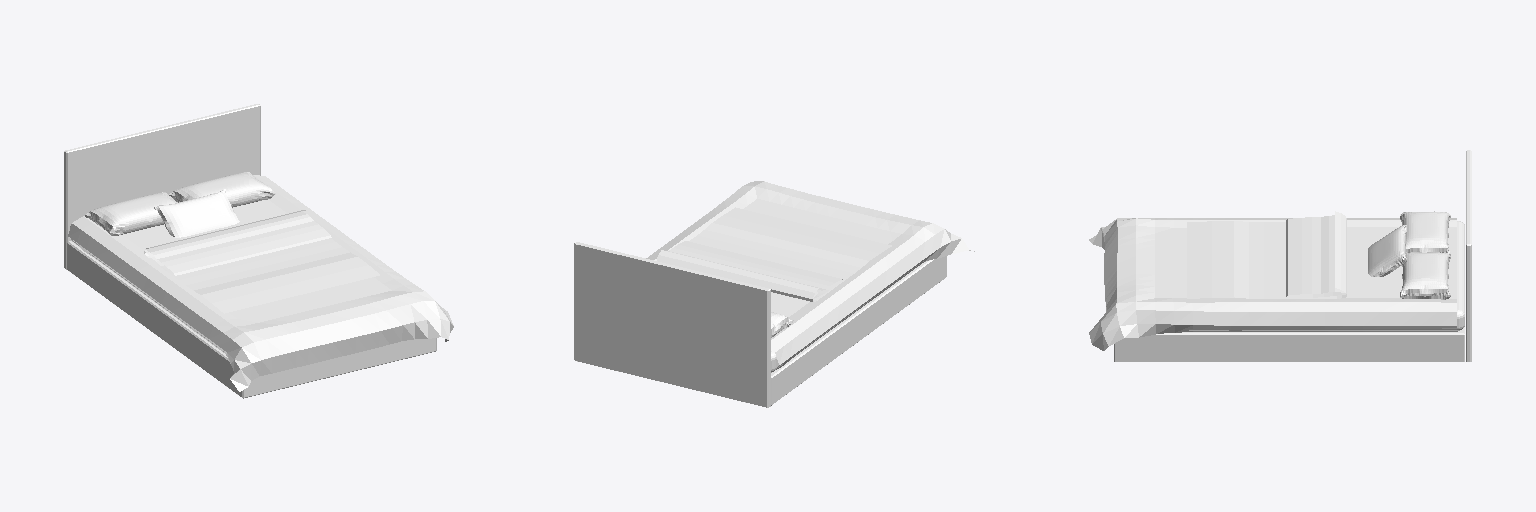
The model's file is cama_princ.obj.
3 views of the same model, side by side, from view 1: azimuth 30°, elevation 25°; view 2: azimuth 150°, elevation 25°; view 3: azimuth 270°, elevation 25° (orthographic).
Parts seen in each view (by area): view 1: Bed:Plane, Bed:Loft_NURBS, Bed:Cube_2, Bed:Cube, Bed:Pellow_2, Bed:Pellow_1, Bed:Pellow; view 2: Bed:Cube_2, Bed:Plane, Bed:Loft_NURBS, Bed:Cube; view 3: Bed:Plane, Bed:Loft_NURBS, Bed:Cube, Bed:Pellow, Bed:Pellow_1, Bed:Pellow_2, Bed:Cube_1, Bed:Cube_2.
Boxes of the visible parts, x1=… form: Bed:Plane: x1=68, y1=175, x2=453, y2=391; Bed:Loft_NURBS: x1=144, y1=210, x2=379, y2=313; Bed:Cube_2: x1=64, y1=104, x2=260, y2=269; Bed:Cube: x1=67, y1=241, x2=436, y2=398; Bed:Pellow_2: x1=154, y1=189, x2=239, y2=237; Bed:Pellow_1: x1=85, y1=192, x2=177, y2=235; Bed:Pellow: x1=169, y1=172, x2=275, y2=207; Bed:Cube_2: x1=574, y1=242, x2=770, y2=407; Bed:Plane: x1=646, y1=181, x2=974, y2=368; Bed:Loft_NURBS: x1=657, y1=207, x2=891, y2=301; Bed:Cube: x1=771, y1=256, x2=946, y2=405; Bed:Plane: x1=1089, y1=218, x2=1457, y2=350; Bed:Loft_NURBS: x1=1187, y1=211, x2=1346, y2=298; Bed:Cube: x1=1114, y1=327, x2=1464, y2=361; Bed:Pellow: x1=1400, y1=252, x2=1450, y2=299; Bed:Pellow_1: x1=1400, y1=211, x2=1450, y2=255; Bed:Pellow_2: x1=1368, y1=225, x2=1406, y2=276; Bed:Cube_1: x1=1189, y1=221, x2=1464, y2=330; Bed:Cube_2: x1=1466, y1=150, x2=1471, y2=361.
Bounding box in the file's own units: 2.75 × 1.36 × 4.